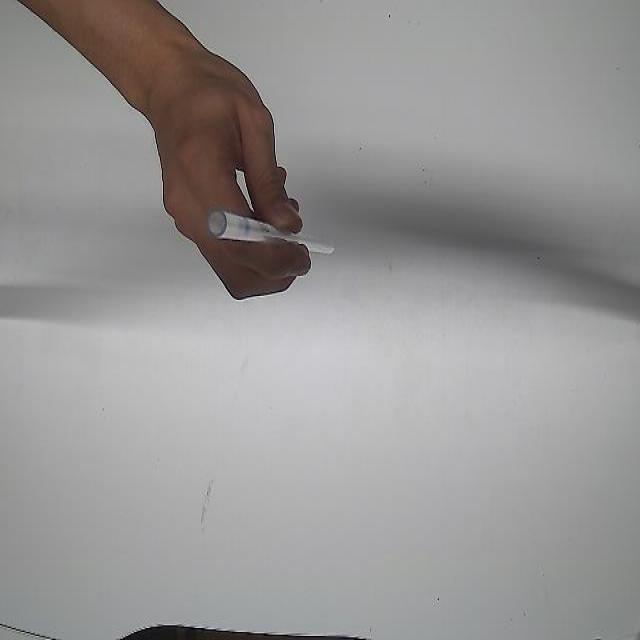Serelogical Pipet 5 mL: (205, 202, 338, 260)
